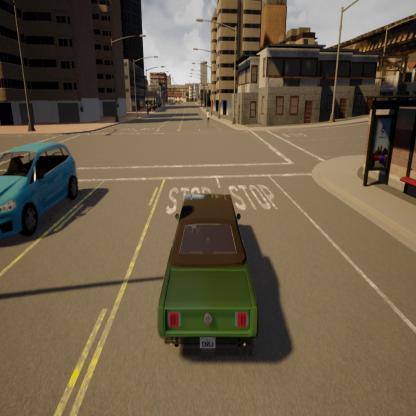Cars: (158, 180, 264, 363), (0, 123, 89, 265)
